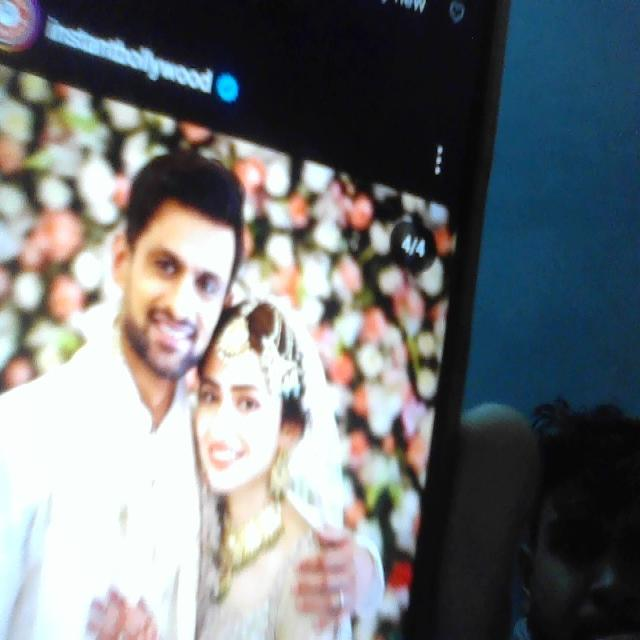fake: (114, 159, 231, 380)
